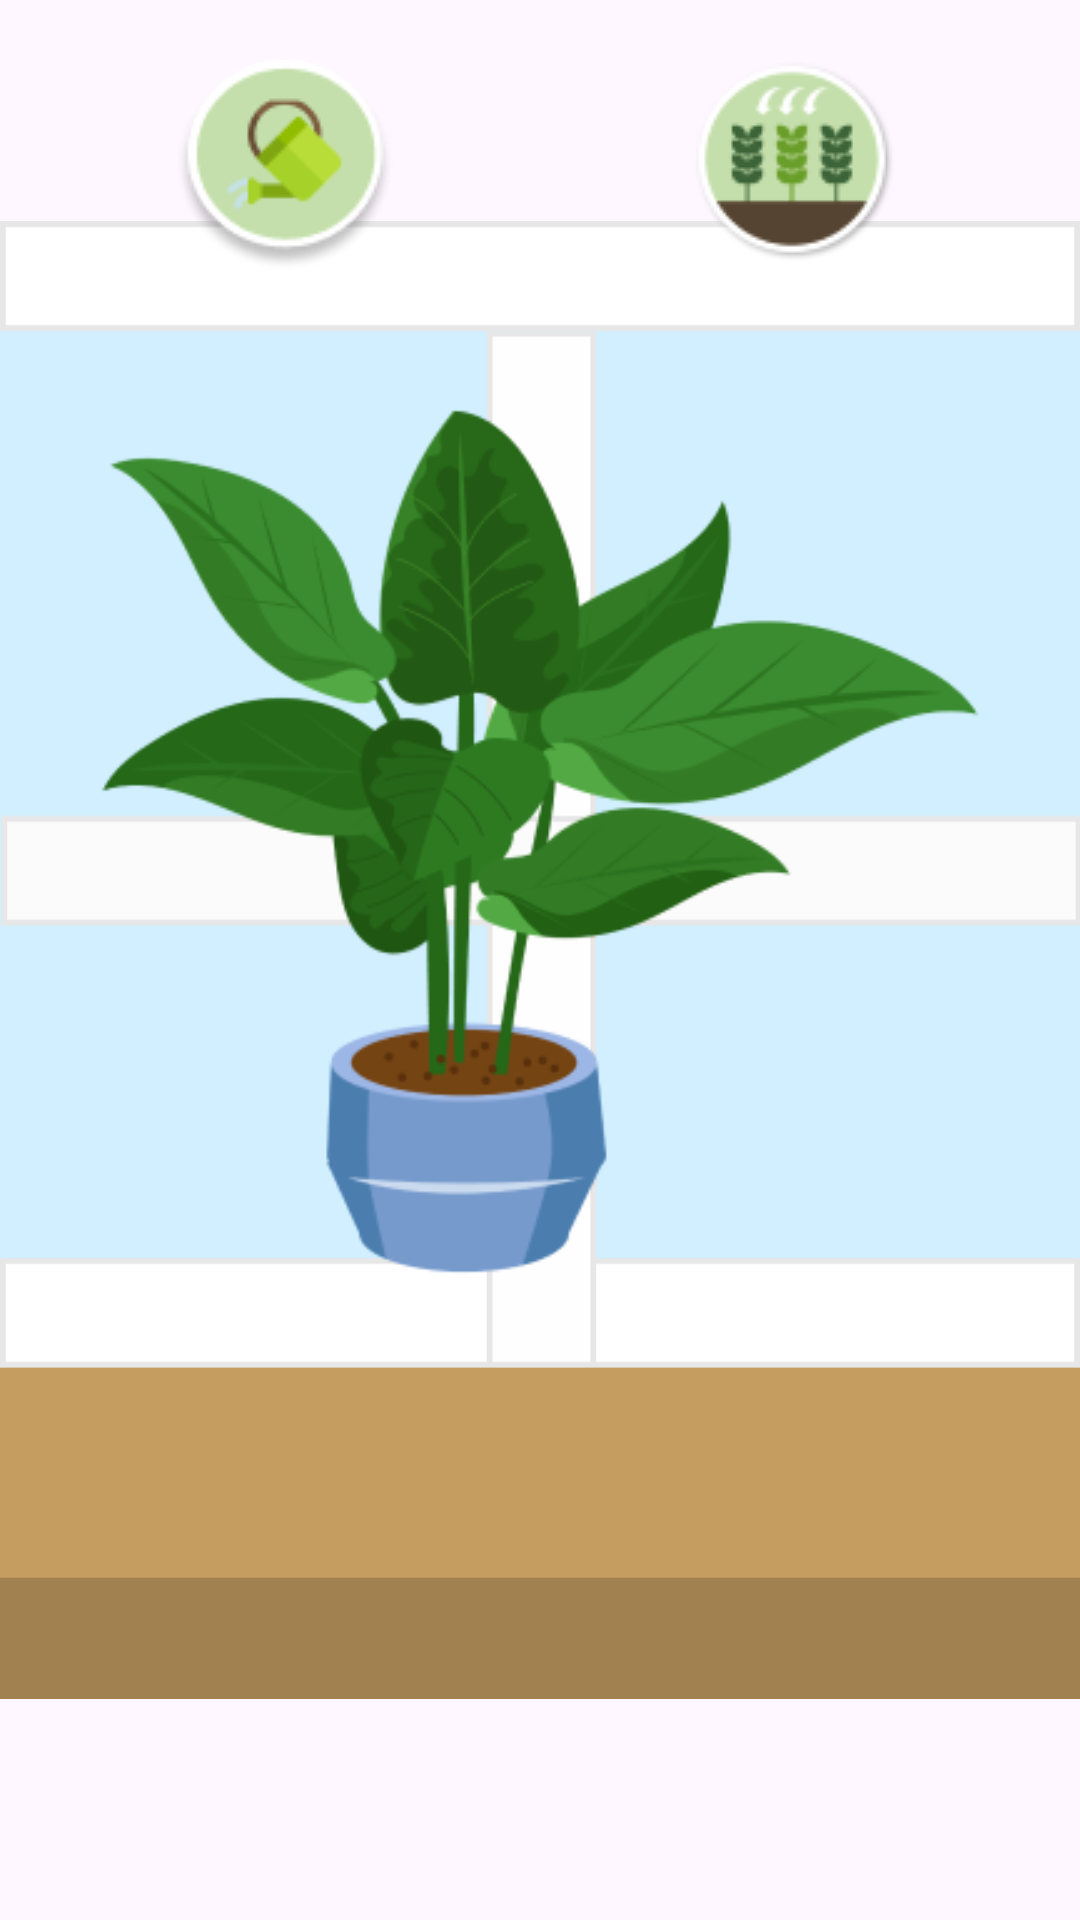

Icon bounding boxes for this 1080w x 1920h phone screenshot, format [x1,y1,x2,y2]:
foodplant: [705,72,889,256]
waterplant: [186,68,383,260]
